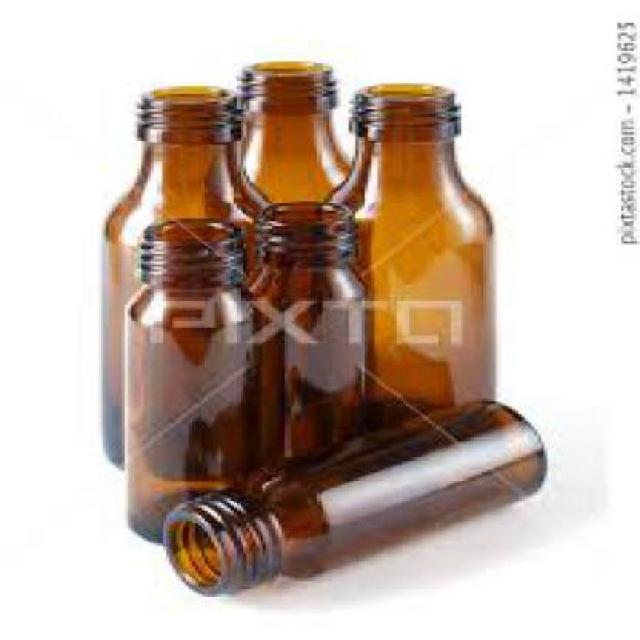kaca: (157, 397, 548, 592), (97, 86, 266, 457), (323, 82, 495, 426), (122, 218, 249, 538), (246, 198, 371, 472), (237, 58, 346, 211)
